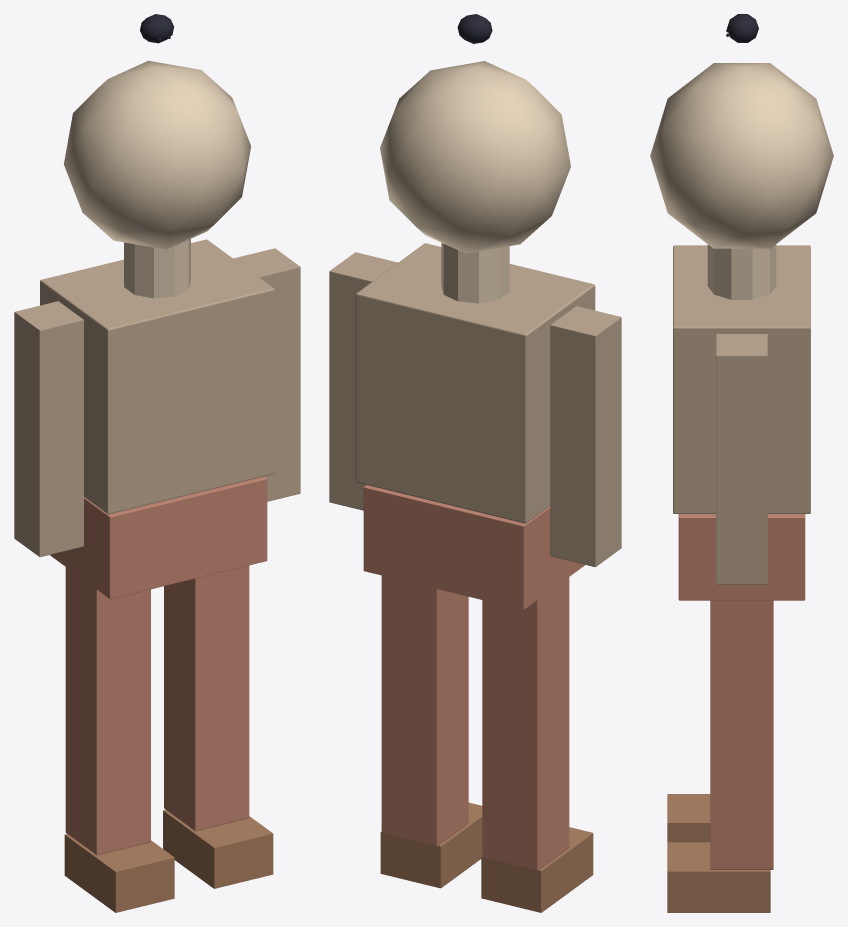
File: nell-potter.glb
The picture shows the model from 3 angles, left to right: view 1: azimuth 30°, elevation 25°; view 2: azimuth 150°, elevation 25°; view 3: azimuth 270°, elevation 25°; orthographic projection.
Parts seen in each view (by area): view 1: nell-potter_Body, nell-potter_Head, nell-potter_LeftLeg, nell-potter_RightLeg, nell-potter_LeftArm, nell-potter_Hips, nell-potter_RightArm, nell-potter_LeftShoe, nell-potter_RightShoe, nell-potter_Neck, nell-potter_Hair; view 2: nell-potter_Body, nell-potter_Head, nell-potter_LeftLeg, nell-potter_RightLeg, nell-potter_LeftArm, nell-potter_Hips, nell-potter_RightArm, nell-potter_LeftShoe, nell-potter_RightShoe, nell-potter_Neck, nell-potter_Hair; view 3: nell-potter_Head, nell-potter_Body, nell-potter_RightLeg, nell-potter_RightArm, nell-potter_Hips, nell-potter_RightShoe, nell-potter_Neck, nell-potter_LeftShoe, nell-potter_Hair.
Part boxes in pixels (<box>): nell-potter_Body: <box>40,239,274,514</box>; nell-potter_Head: <box>63,60,250,249</box>; nell-potter_LeftLeg: <box>65,567,150,855</box>; nell-potter_RightLeg: <box>164,565,249,831</box>; nell-potter_LeftArm: <box>14,301,83,556</box>; nell-potter_Hips: <box>50,476,267,599</box>; nell-potter_RightArm: <box>233,248,300,501</box>; nell-potter_LeftShoe: <box>64,834,174,912</box>; nell-potter_RightShoe: <box>163,810,273,888</box>; nell-potter_Neck: <box>124,239,190,298</box>; nell-potter_Hair: <box>140,14,173,43</box>; nell-potter_Body: <box>355,243,595,523</box>; nell-potter_Head: <box>380,61,570,253</box>; nell-potter_LeftLeg: <box>482,577,569,871</box>; nell-potter_RightLeg: <box>381,575,468,846</box>; nell-potter_LeftArm: <box>550,306,621,567</box>; nell-potter_Hips: <box>363,485,584,609</box>; nell-potter_RightArm: <box>329,252,397,510</box>; nell-potter_LeftShoe: <box>481,827,593,912</box>; nell-potter_RightShoe: <box>380,802,482,888</box>; nell-potter_Neck: <box>441,242,509,303</box>; nell-potter_Hair: <box>457,14,492,43</box>; nell-potter_Head: <box>650,63,833,248</box>; nell-potter_Body: <box>673,245,810,513</box>; nell-potter_RightLeg: <box>710,600,773,869</box>; nell-potter_RightArm: <box>716,334,767,584</box>; nell-potter_Hips: <box>678,514,805,600</box>; nell-potter_RightShoe: <box>667,842,770,912</box>; nell-potter_Neck: <box>707,244,776,299</box>; nell-potter_LeftShoe: <box>667,794,710,842</box>; nell-potter_Hair: <box>727,14,758,42</box>.
Bounding box in the file's own units: 0.53 × 1.65 × 0.32.
